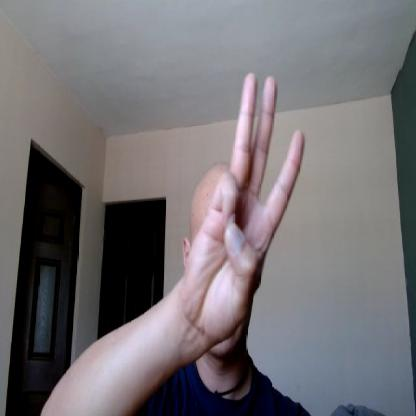W: (191, 69, 306, 337)
